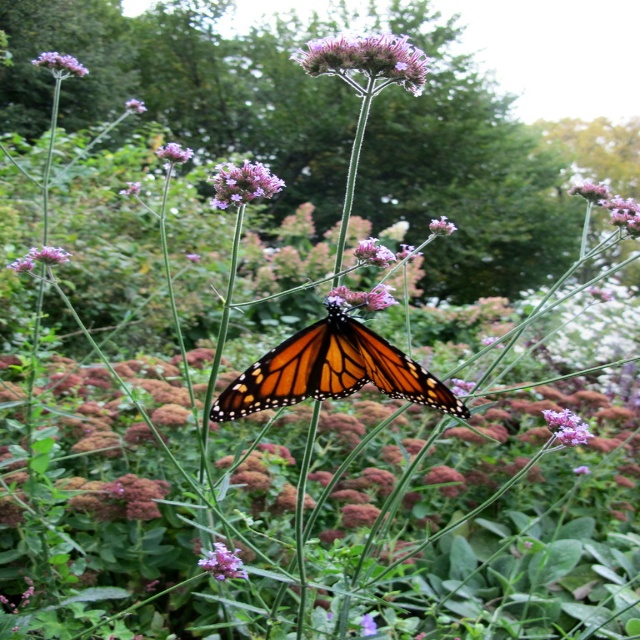Butterfly: (210, 271, 465, 416)
